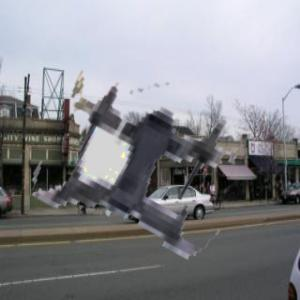drone: (26, 49, 262, 285)
